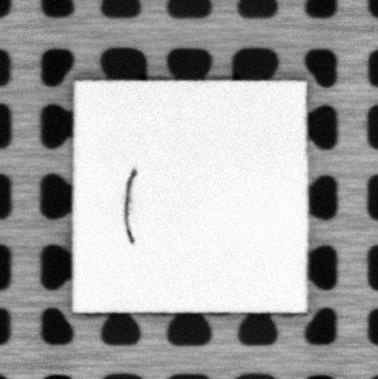DIE_INK: (122, 167, 138, 243)
